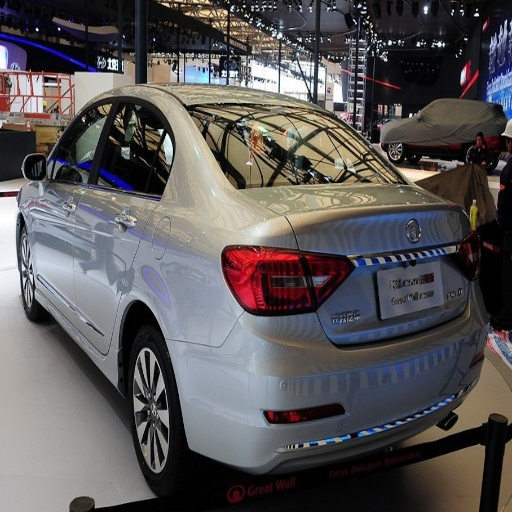back_bumper: (172, 304, 485, 478)
back_glass: (189, 105, 400, 183)
back_left_door: (78, 98, 171, 330)
